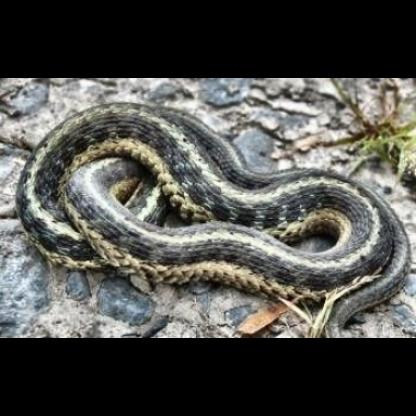Snake: (13, 109, 412, 344)
